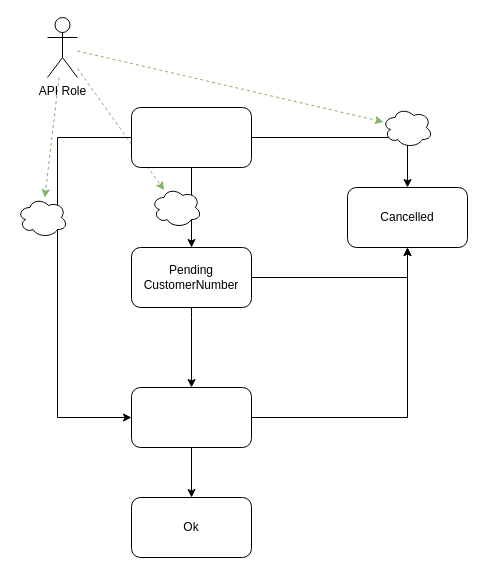
The diagram is 485 pixels wide and 575 high, and some of its shapes have lost their labels. The shapes that lost their labels are listed below. From the top down, each one's centre as x and y in pixels, then its label:
At point (191, 137): "New".
At point (191, 417): "PendingCapture".
